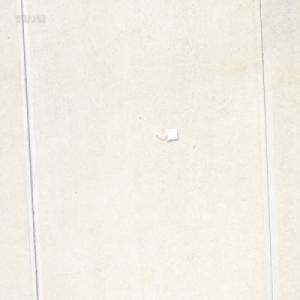LuggageTag: (153, 126, 178, 143)
